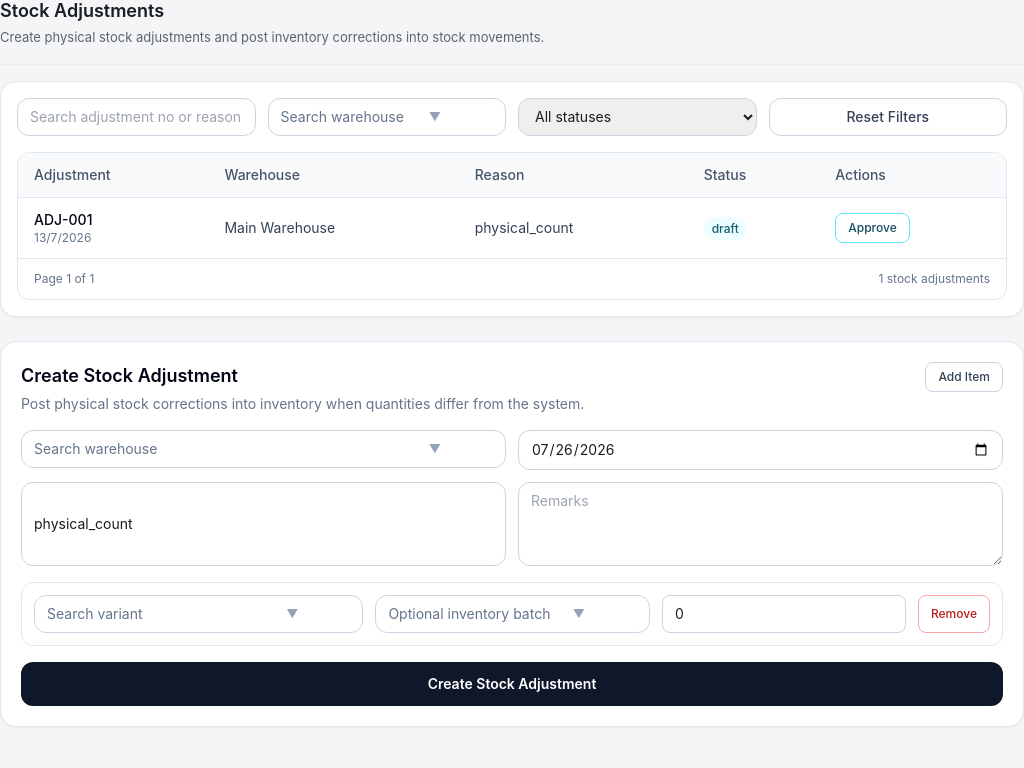
Test: InventoryAdjustmentsView › approves a draft adjustment from the list action
The width and height of the screenshot is (1024, 768).
Check: the text "ADJ-001" is shown, box [34, 211, 92, 228]
Click the button "Approve" at (872, 228), box [835, 213, 910, 243]
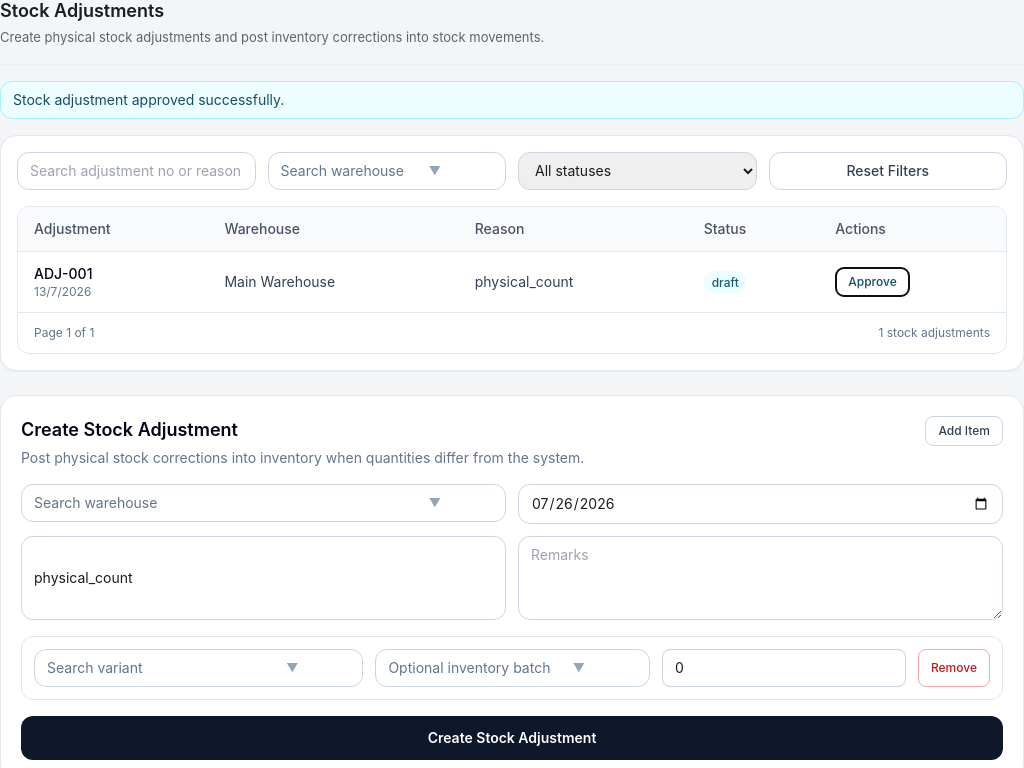
Check: the text "Stock adjustment approved successfully." is shown, box [0, 81, 1023, 119]
